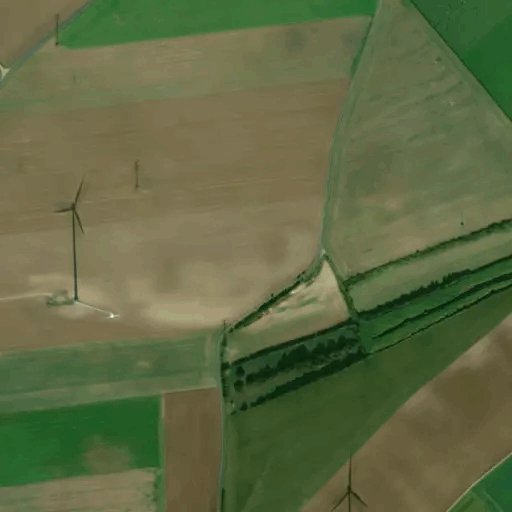wt: (51, 172, 141, 333), (315, 448, 393, 512)
